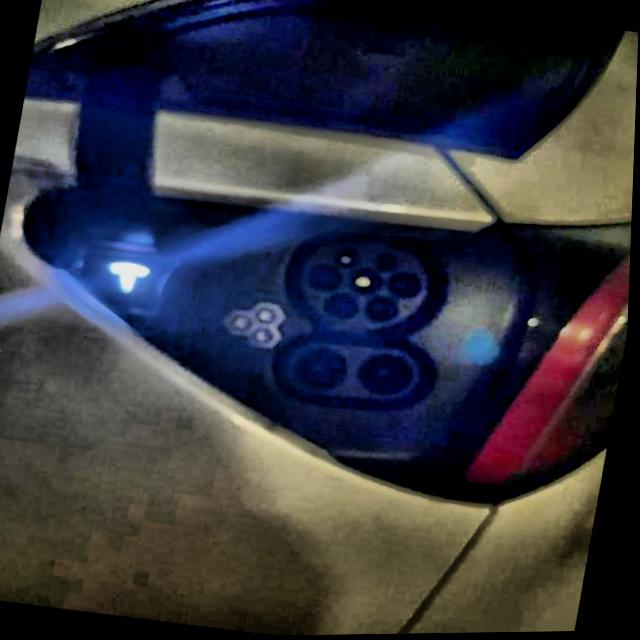inlet: (301, 242, 431, 334)
inlet-above-left: (334, 248, 362, 269)
inlet-above-right: (375, 253, 400, 274)
inlet-below-left: (325, 294, 360, 320)
inlet-below-right: (365, 298, 402, 323)
inlet-center: (348, 269, 384, 295)
inlet-center-left: (308, 265, 344, 293)
inlet-center-right: (390, 273, 422, 299)
